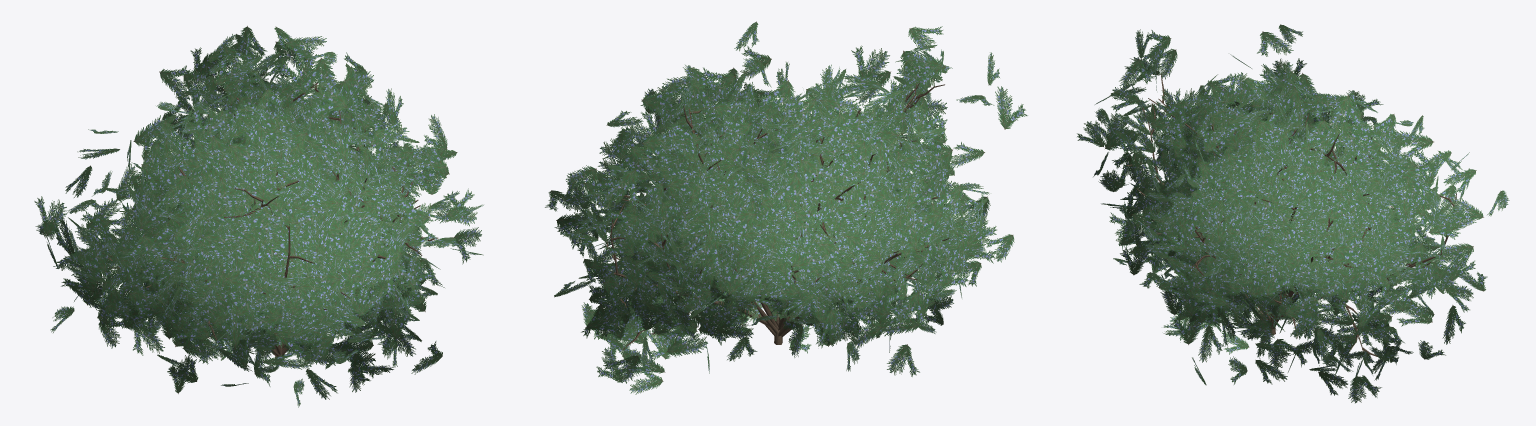
File: RM1_Rosemary_SmallRound_0.6m.glb
3 views of the same model, side by side, from view 1: azimuth 30°, elevation 25°; view 2: azimuth 150°, elevation 25°; view 3: azimuth 270°, elevation 25° (orthographic). The views are drawn at different scales.
Visible parts, largest first — view 1: RM1_leaves, RM1_wood; view 2: RM1_leaves, RM1_wood; view 3: RM1_leaves, RM1_wood.
Part boxes in pixels (x1,y1,x2,y2): RM1_leaves: [34, 26, 483, 407]; RM1_wood: [102, 61, 438, 360]; RM1_leaves: [545, 21, 1027, 394]; RM1_wood: [606, 81, 948, 349]; RM1_leaves: [1077, 24, 1509, 403]; RM1_wood: [1126, 74, 1457, 356].
Bounding box in the file's own units: 0.8464 × 0.6814 × 0.9039.
Materials: 2 (2 with a texture image).
